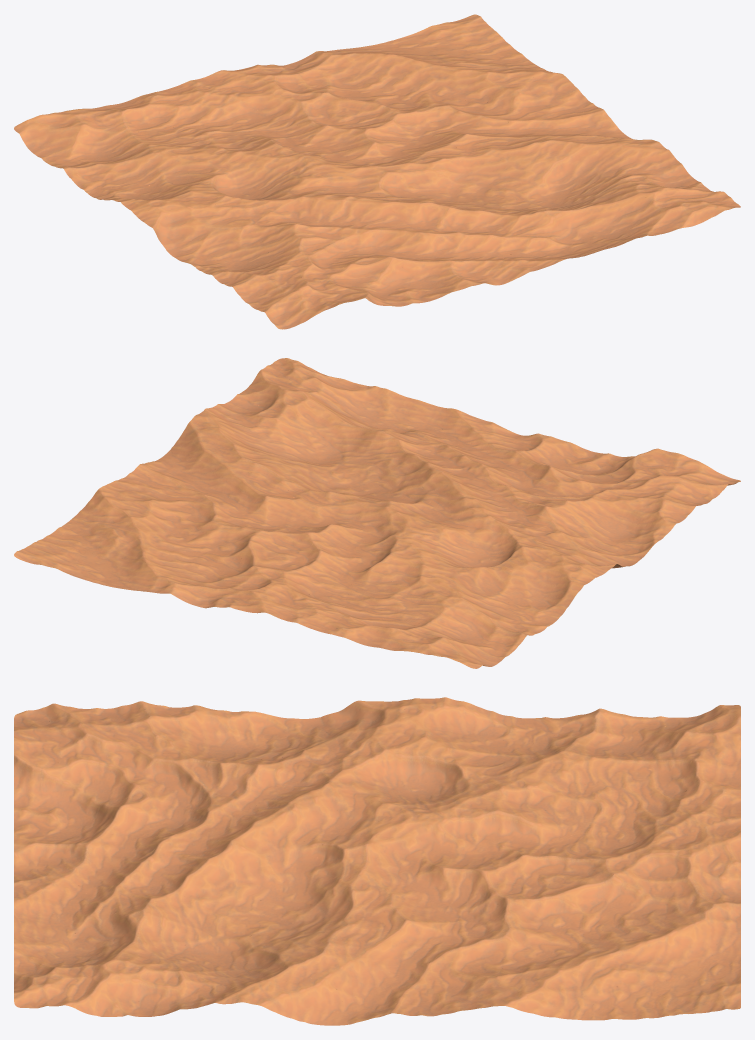
The model's file is desert_landscape.glb.
The picture shows the model from 3 angles, top to bottom: view 1: azimuth 30°, elevation 25°; view 2: azimuth 150°, elevation 25°; view 3: azimuth 270°, elevation 25°; orthographic projection. The views are drawn at different scales.
Parts seen in each view (by area): view 1: Plane; view 2: Plane; view 3: Plane.
Boxes of the visible parts, x1=… form: Plane: x1=14, y1=14, x2=740, y2=329; Plane: x1=14, y1=358, x2=740, y2=668; Plane: x1=14, y1=697, x2=740, y2=1025.
Size of the model in its own units: 3.68 by 0.1913 by 3.68.
Materials: 1 (1 with a texture image).
